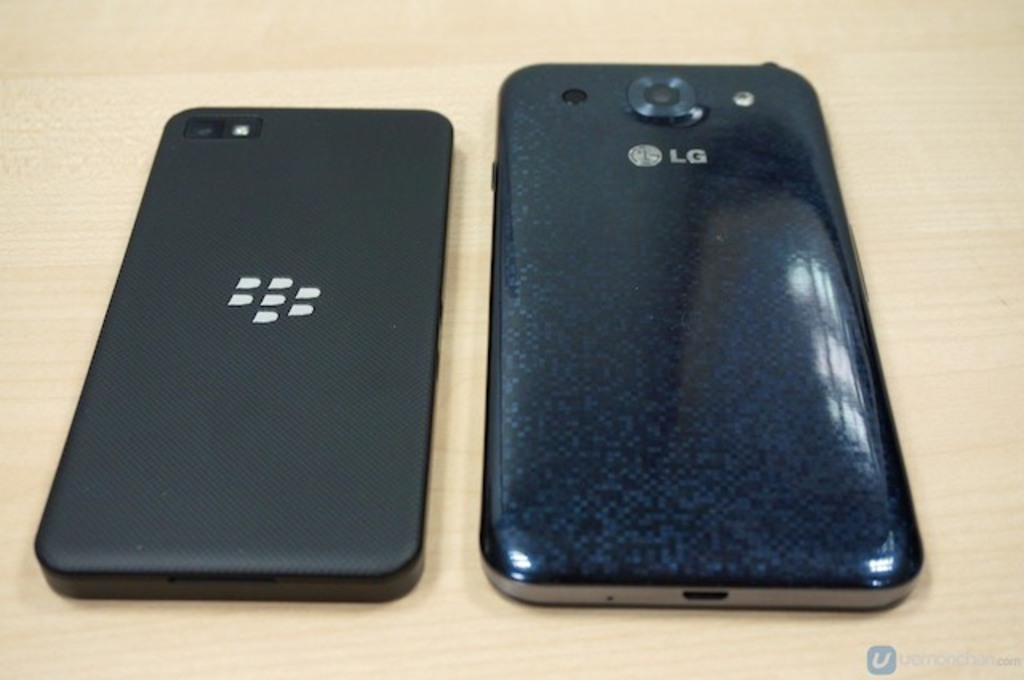Mobile-phone: (480, 61, 926, 608), (30, 107, 456, 600)
